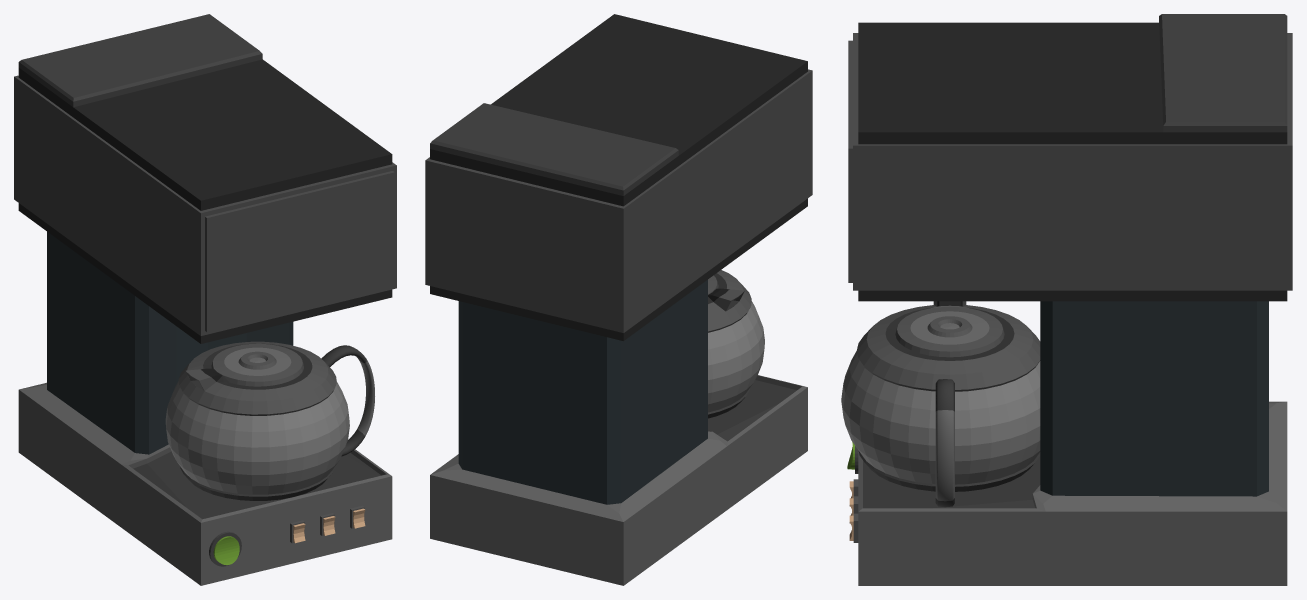
File: Coffee Machine #1 w_Pot.fbx
3 renders of one model, left to right at view 1: azimuth 30°, elevation 25°; view 2: azimuth 150°, elevation 25°; view 3: azimuth 270°, elevation 25°, orthographic. The views are drawn at different scales.
Parts seen in each view (by area): view 1: Coffee Machine #1 w_Pot; view 2: Coffee Machine #1 w_Pot; view 3: Coffee Machine #1 w_Pot.
Part boxes in pixels (x1,y1,x2,y2): Coffee Machine #1 w_Pot: (14, 14, 396, 585); Coffee Machine #1 w_Pot: (425, 14, 812, 585); Coffee Machine #1 w_Pot: (841, 14, 1292, 585).
Bounding box in the file's own units: 49.67 × 88.49 × 78.21.
Materials: 2 (2 with a texture image).
